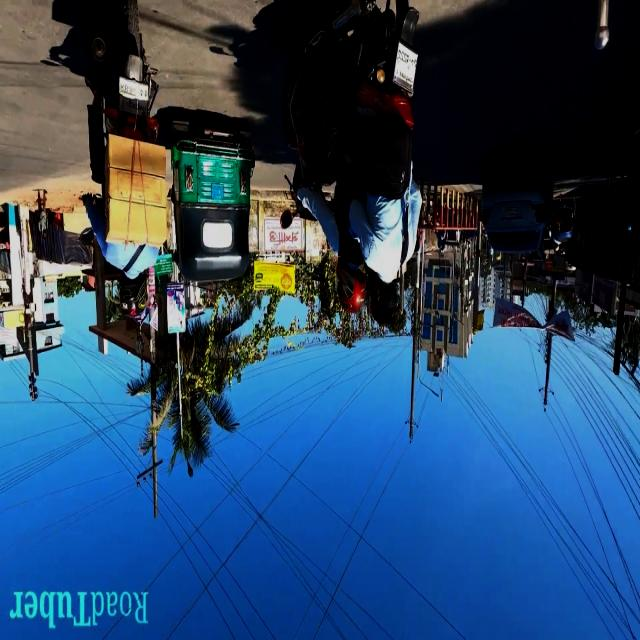silver: (475, 170, 555, 262)
